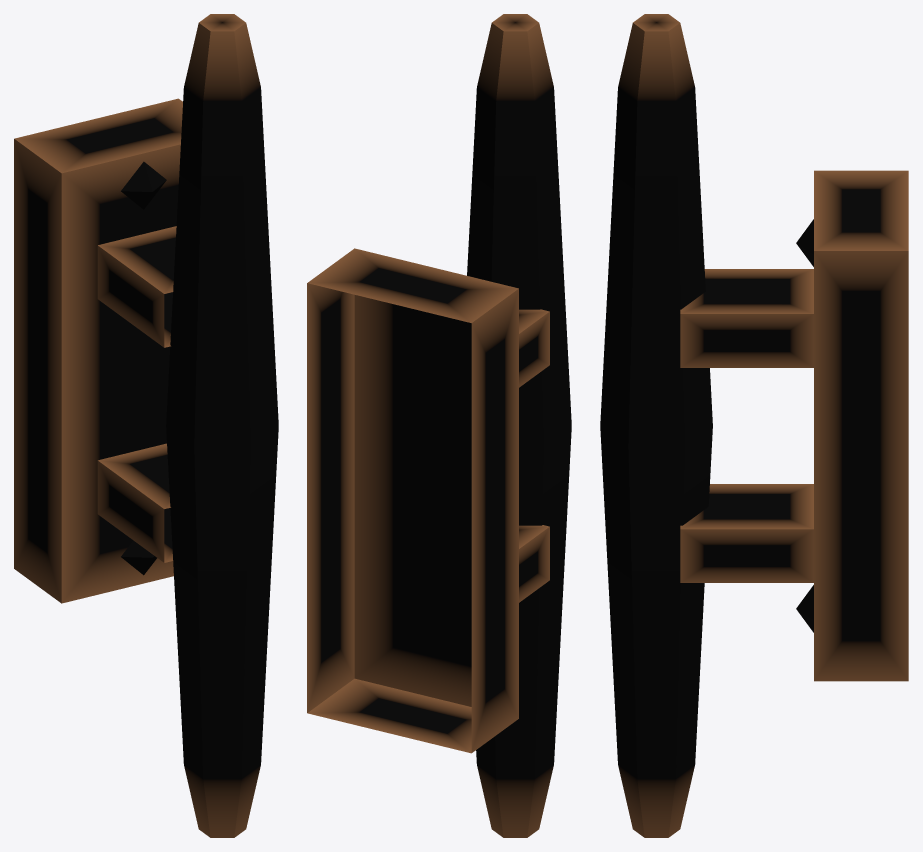
Rendered from mast_cleat.glb.
3 renders of one model, left to right at view 1: azimuth 30°, elevation 25°; view 2: azimuth 150°, elevation 25°; view 3: azimuth 270°, elevation 25°, orthographic.
Parts seen in each view (by area): view 1: cleat, bolts; view 2: cleat; view 3: cleat, bolts.
Part boxes in pixels (box(x1,y1,x2,y2)): cleat: box(14, 14, 278, 837); bolts: box(121, 161, 166, 575); cleat: box(307, 14, 571, 837); cleat: box(600, 14, 908, 837); bolts: box(796, 219, 813, 632).
Size of the model in its own units: 0.064 by 0.3 by 0.104.
